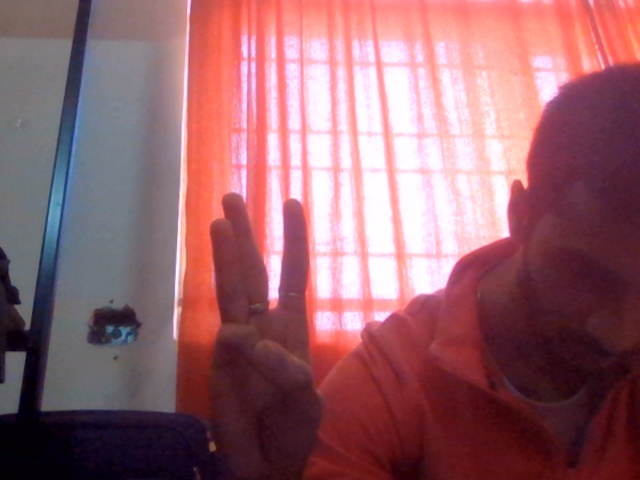W: (158, 170, 391, 480)
